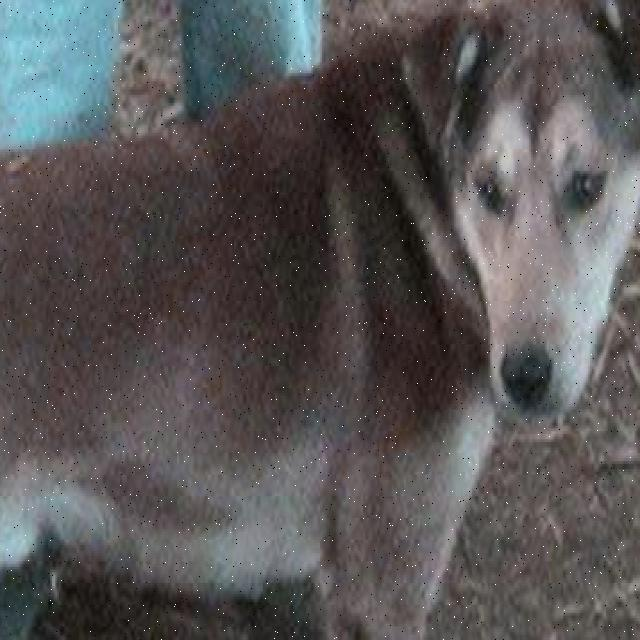Dog: (431, 0, 640, 447)
